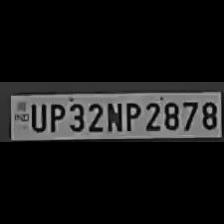2: (86, 100, 104, 132), (142, 99, 160, 131)
3: (65, 100, 84, 132)
7: (180, 99, 196, 131)
8: (198, 99, 218, 130), (161, 99, 179, 130)
N: (104, 100, 120, 132)
P: (46, 100, 64, 132), (122, 100, 140, 132)
U: (27, 101, 45, 131)
